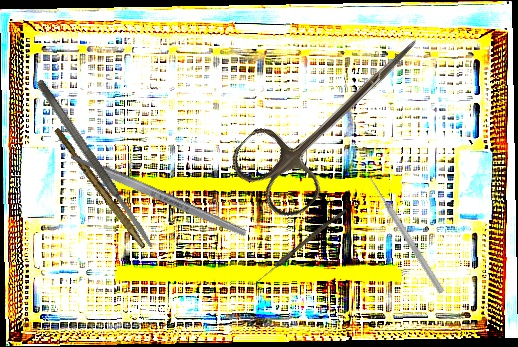Iris Scissors: (223, 4, 446, 227)
Pusher: (366, 174, 446, 295)
Scalpel Handle: (68, 150, 249, 240), (51, 127, 150, 249)
Spatula Surgical: (34, 77, 157, 252)
Surgical Spoon: (251, 206, 348, 288)
